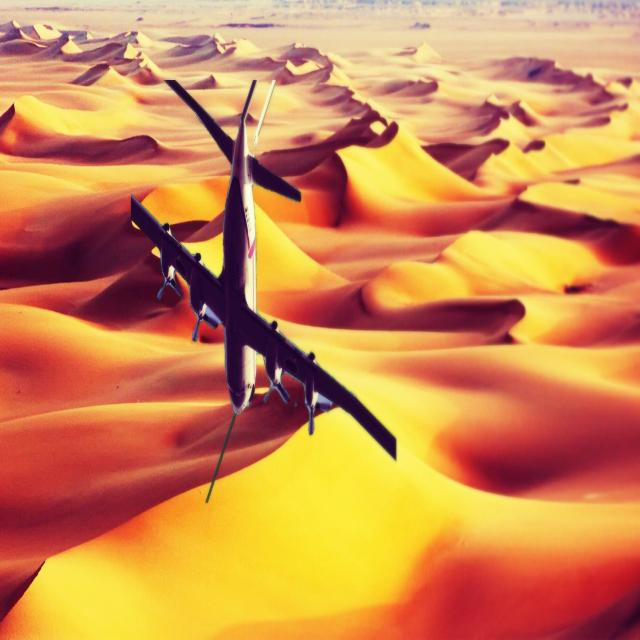airplane: (129, 75, 398, 502)
